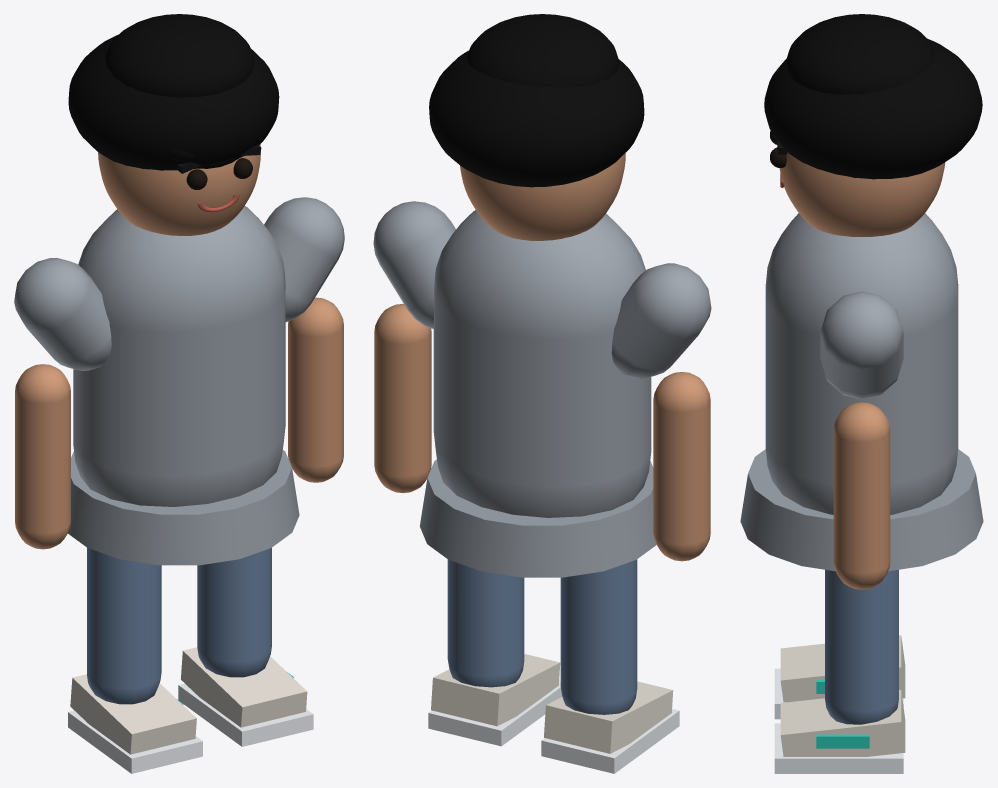
Rendered from hero-character.glb.
The picture shows the model from 3 angles, left to right: view 1: azimuth 30°, elevation 25°; view 2: azimuth 150°, elevation 25°; view 3: azimuth 270°, elevation 25°; orthographic projection. The views are drawn at different scales.
Visible parts, largest first — view 1: Shirt, Torso, Head, LegL, LeftArm, RightArm, LegR, Face, ShoeR, ShoeL; view 2: Shirt, Torso, Head, LegL, LeftArm, RightArm, LegR, Face, ShoeL, ShoeR; view 3: Shirt, Head, Torso, LegR, RightArm, Face, ShoeR, ShoeL.
Part boxes in pixels (box(x1,y1,x2,y2)): Shirt: box(73, 206, 285, 506); Torso: box(14, 197, 344, 565); Head: box(68, 14, 279, 212); LegL: box(87, 548, 161, 704); LeftArm: box(15, 364, 70, 549); RightArm: box(288, 297, 343, 482); LegR: box(197, 548, 271, 677); Face: box(98, 144, 260, 235); ShoeR: box(178, 647, 313, 746); ShoeL: box(68, 674, 202, 773); Shirt: box(433, 210, 651, 517); Torso: box(373, 201, 711, 577); Head: box(429, 14, 644, 187); LegL: box(560, 559, 637, 714); LeftArm: box(653, 372, 710, 561); RightArm: box(374, 304, 431, 493); LegR: box(447, 559, 524, 687); Face: box(460, 153, 625, 240); ShoeL: box(541, 681, 679, 773); ShoeR: box(428, 654, 562, 746); Shirt: box(765, 213, 958, 514); Head: box(764, 14, 982, 187); Torso: box(740, 291, 983, 571); LegR: box(825, 569, 898, 724); RightArm: box(833, 402, 890, 589); Face: box(779, 152, 945, 236); ShoeR: box(774, 690, 905, 773); ShoeL: box(774, 635, 905, 719).
Size of the model in its own units: 0.99 by 2.04 by 0.64.
